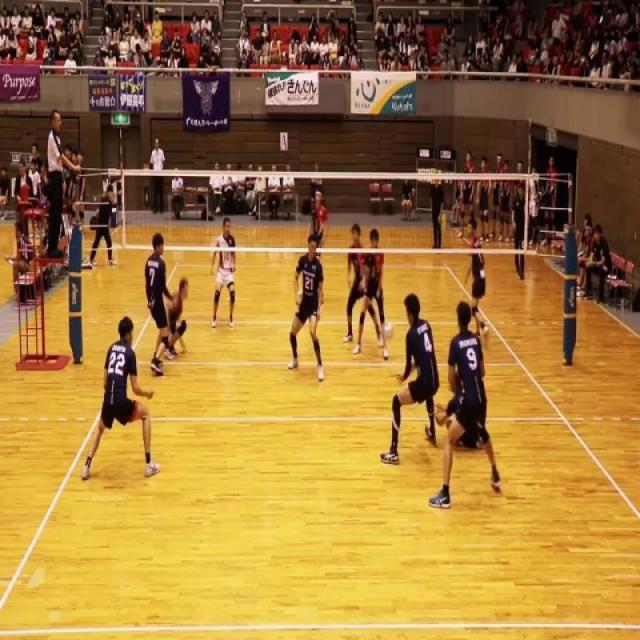volleyball: (382, 321, 394, 341)
